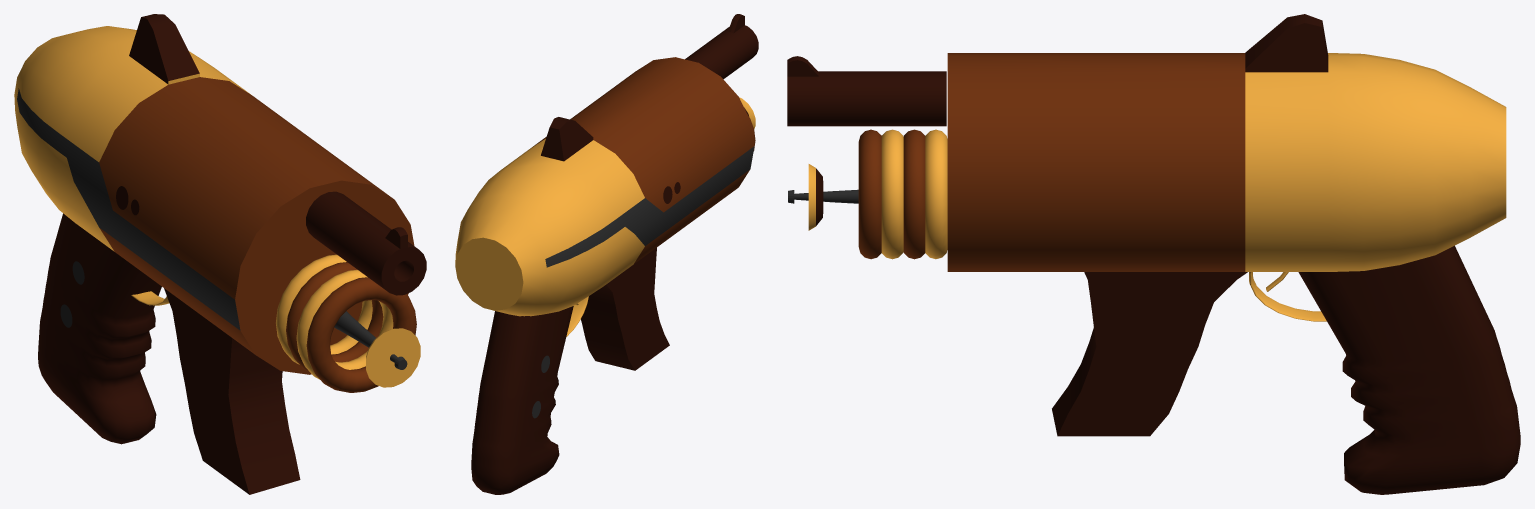
Rendered from arme2.FBX.
The picture shows the model from 3 angles, left to right: view 1: azimuth 30°, elevation 25°; view 2: azimuth 150°, elevation 25°; view 3: azimuth 270°, elevation 25°; orthographic projection. The views are drawn at different scales.
Parts seen in each view (by area): view 1: Cylindre001 (×2), BoîteChanfrein002, Boîte001, Tube003, Tore004, Cylindre003, Tore002, Tore001, Tore003, Cercle004; view 2: Cylindre001, BoîteChanfrein002, Boîte001, Tube003, Cercle004, Tore001; view 3: Cylindre001, BoîteChanfrein002, Boîte001, Tube003, Tore001 (×2), Tore004, Tore002, Tore003, Cylindre003.
Boxes of the visible parts, left/top/right/bottom form: Cylindre001 (×2): left=14, top=14, right=414, bottom=374; BoîteChanfrein002: left=38, top=213, right=161, bottom=444; Boîte001: left=164, top=288, right=300, bottom=494; Tube003: left=306, top=191, right=426, bottom=295; Tore004: left=306, top=277, right=416, bottom=392; Cylindre003: left=366, top=328, right=420, bottom=387; Tore002: left=286, top=262, right=383, bottom=372; Tore001: left=276, top=254, right=372, bottom=364; Tore003: left=296, top=269, right=393, bottom=379; Cercle004: left=60, top=186, right=139, bottom=327; Cylindre001: left=455, top=57, right=754, bottom=316; BoîteChanfrein002: left=471, top=306, right=573, bottom=494; Boîte001: left=581, top=247, right=669, bottom=370; Tube003: left=685, top=14, right=758, bottom=79; Cercle004: left=532, top=182, right=680, bottom=418; Tore001: left=566, top=296, right=588, bottom=336; Cylindre001: left=947, top=14, right=1506, bottom=271; BoîteChanfrein002: left=1298, top=245, right=1520, bottom=494; Boîte001: left=1052, top=272, right=1247, bottom=436; Tube003: left=787, top=56, right=946, bottom=126; Tore001 (×2): left=925, top=129, right=1326, bottom=321; Tore004: left=858, top=129, right=881, bottom=259; Tore002: left=903, top=129, right=925, bottom=259; Tore003: left=881, top=129, right=903, bottom=259; Cylindre003: left=808, top=164, right=823, bottom=230.
Size of the model in its own units: 10.39 by 24.56 by 34.62.
